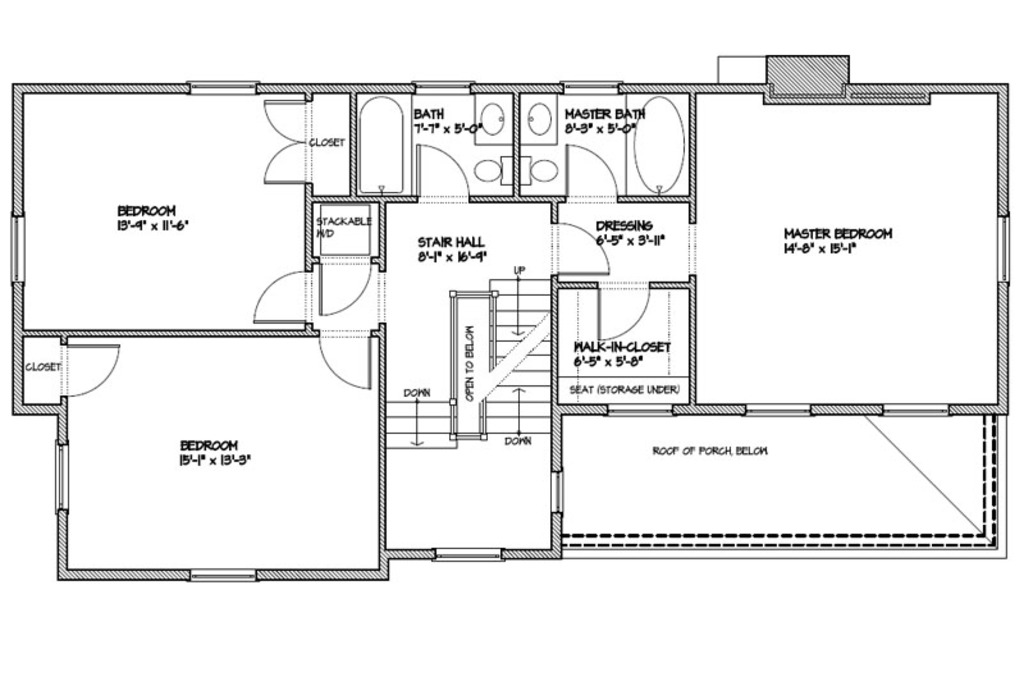door: (261, 98, 310, 193), (250, 264, 309, 333), (318, 329, 379, 392), (412, 143, 472, 206), (562, 142, 621, 205), (546, 220, 610, 278), (591, 282, 652, 342), (317, 260, 372, 319), (67, 338, 121, 395)
large_sink: (519, 149, 562, 190), (469, 153, 512, 190)
small_sink: (518, 92, 556, 146), (472, 95, 512, 145)
stairs: (385, 272, 550, 454)
tub: (625, 94, 697, 198), (355, 90, 414, 202)
windows: (184, 565, 259, 587), (877, 399, 951, 421), (185, 77, 262, 98), (743, 399, 817, 420), (432, 544, 507, 563), (52, 439, 71, 513), (606, 400, 673, 419), (8, 216, 27, 282), (996, 213, 1012, 287), (560, 78, 621, 96), (411, 79, 475, 95), (550, 468, 567, 519)
